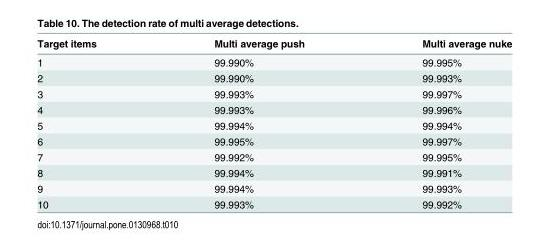table: (36, 36, 511, 209)
table column: (154, 36, 362, 209), (362, 36, 511, 209), (36, 36, 154, 209)
table column header: (36, 36, 511, 52)
table row: (36, 52, 511, 69), (36, 36, 511, 52), (36, 69, 511, 85), (36, 85, 511, 101), (36, 101, 511, 117), (36, 117, 511, 133), (36, 148, 511, 164), (36, 164, 511, 180), (36, 180, 511, 196), (36, 133, 511, 148), (36, 196, 511, 209)
